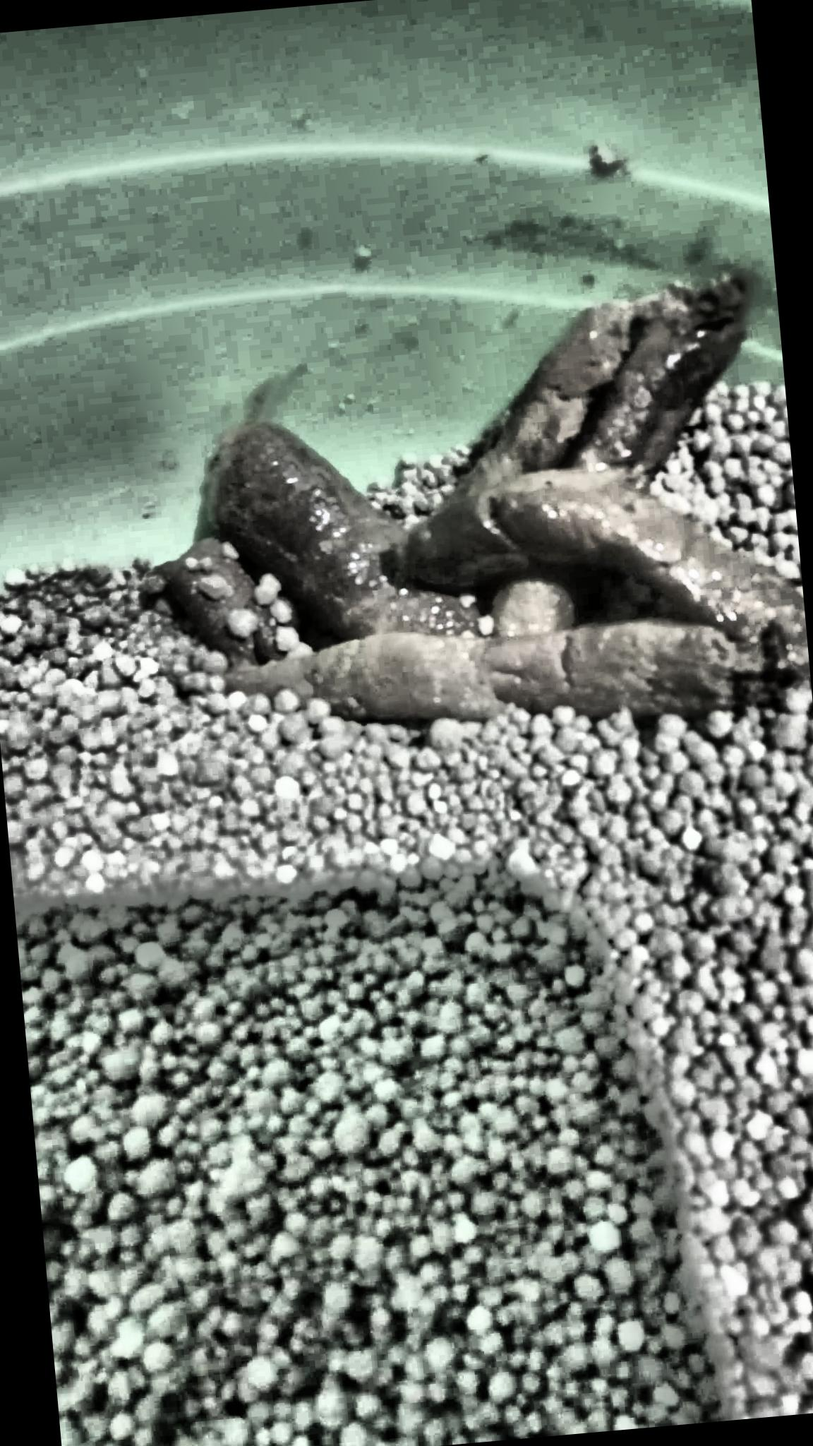poop: (153, 272, 813, 736)
